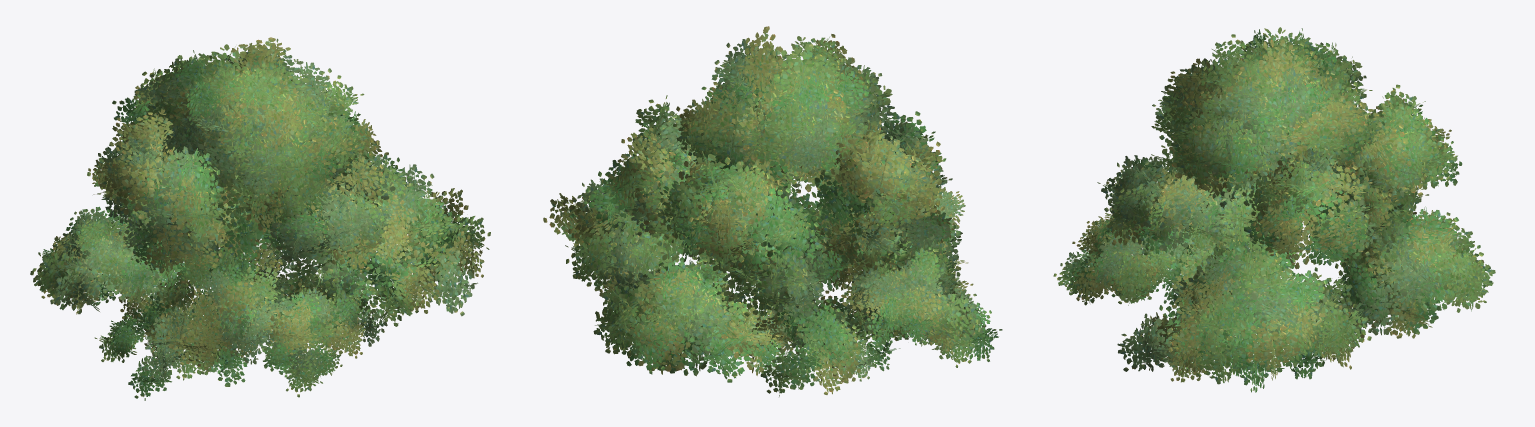
The model's file is Forest_plant_tree_088_a.fbx.
3 renders of one model, left to right at view 1: azimuth 30°, elevation 25°; view 2: azimuth 150°, elevation 25°; view 3: azimuth 270°, elevation 25°, orthographic. The views are drawn at different scales.
Parts seen in each view (by area): view 1: attribwrangle50; view 2: attribwrangle50; view 3: attribwrangle50.
Part boxes in pixels (<box>): attribwrangle50: <box>30,37,490,400</box>; attribwrangle50: <box>543,26,1002,396</box>; attribwrangle50: <box>1053,27,1495,392</box>.
Size of the model in its own units: 15403 by 10602 by 14094.
